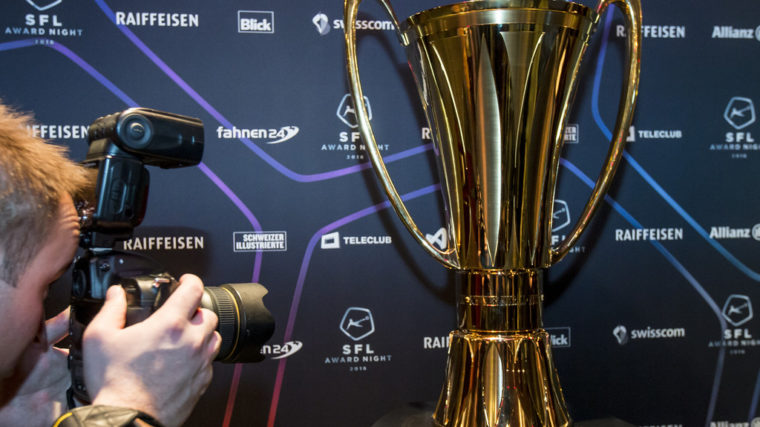trophy: (339, 1, 645, 427)
